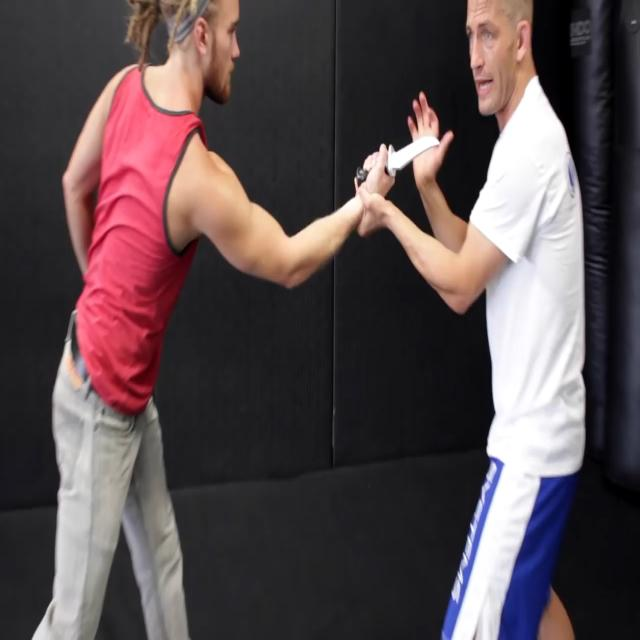knife: (356, 132, 442, 188)
